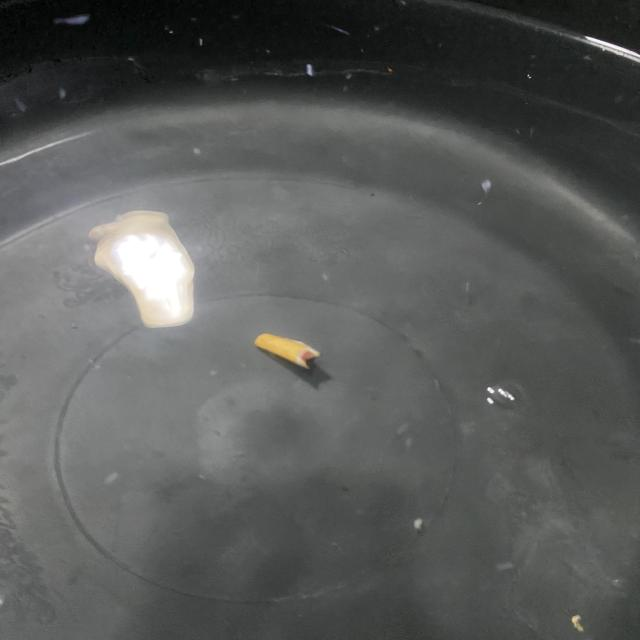Cigarette Filter: (255, 334, 320, 371)
